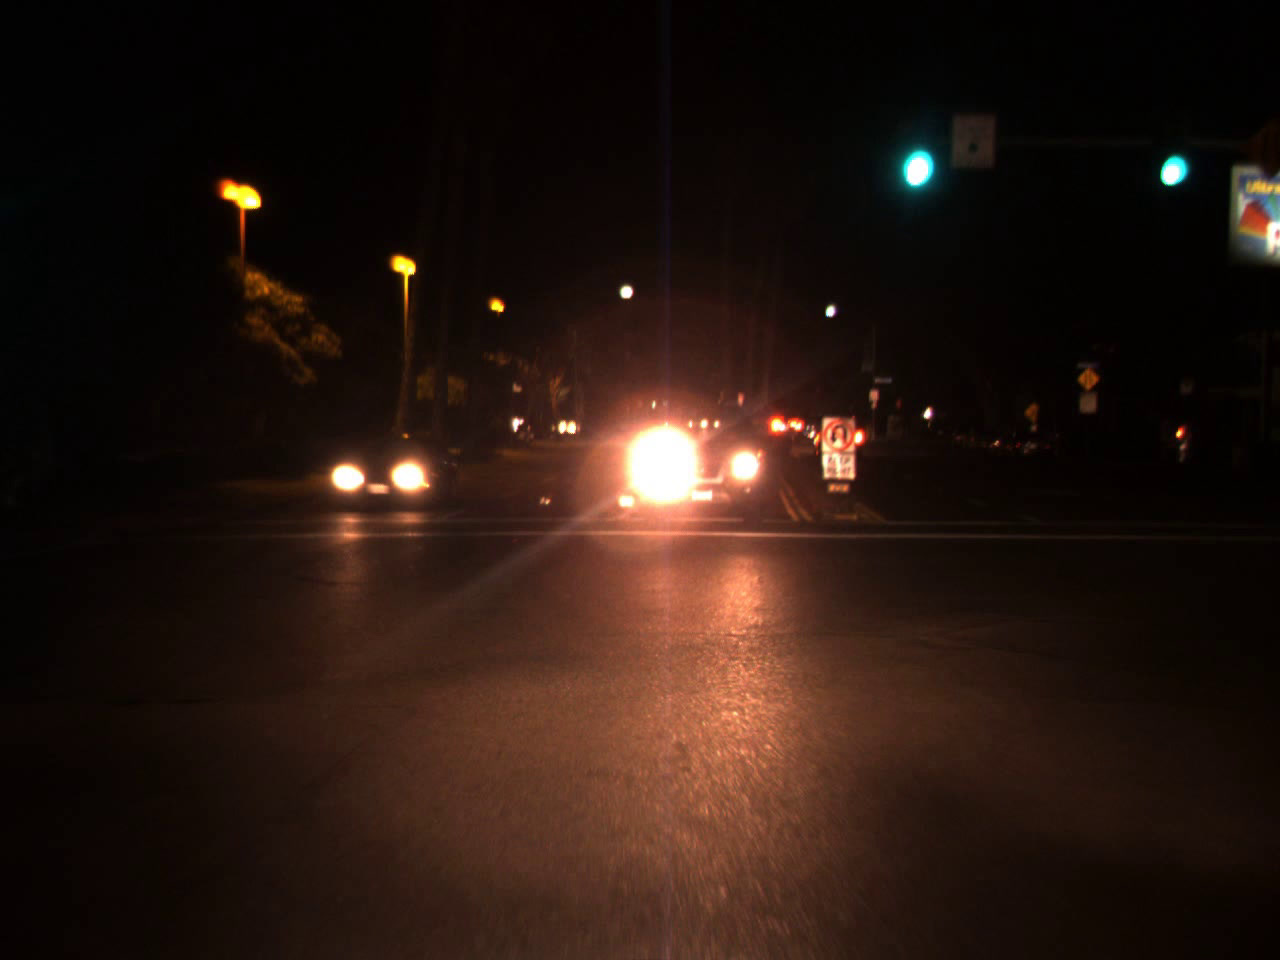go: (893, 112, 934, 199), (1150, 116, 1193, 197)
